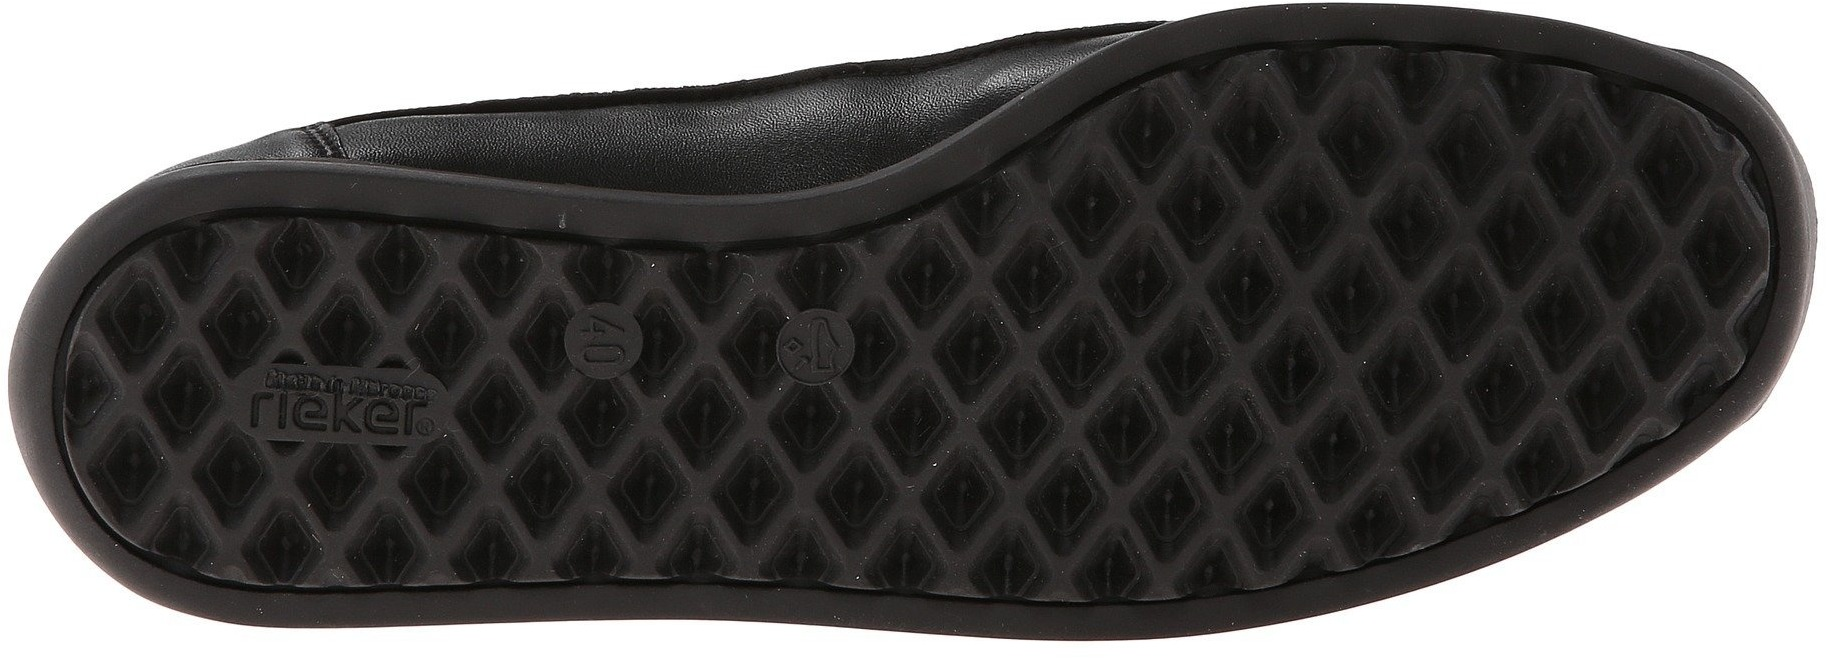circle: (240, 361, 436, 443), (762, 296, 872, 399), (546, 291, 659, 391)
line: (989, 153, 1424, 571), (1257, 83, 1653, 465)
quad: (975, 246, 1232, 501), (1253, 82, 1510, 330), (1521, 157, 1744, 372), (458, 390, 661, 583), (768, 397, 964, 587), (77, 320, 255, 482), (319, 222, 482, 378)
text: (240, 361, 436, 443), (546, 291, 659, 391), (364, 380, 436, 446), (294, 380, 365, 443), (235, 381, 299, 437)
